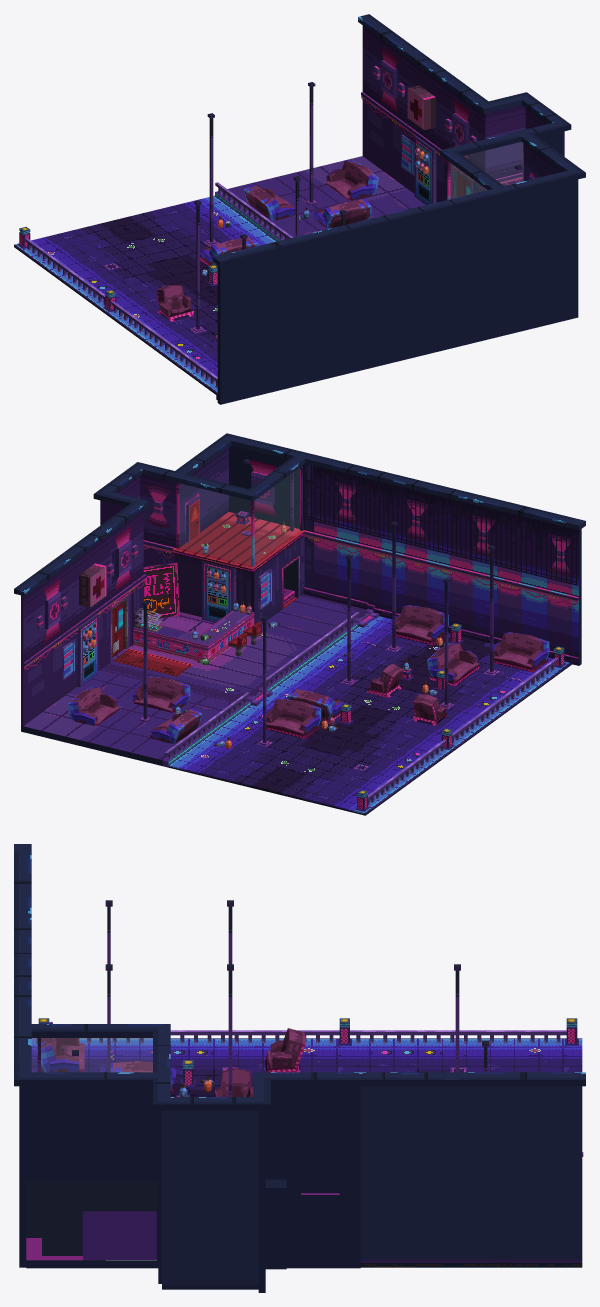
Rendered from minecraft-hospital.glb.
3 views of the same model, one above another, from view 1: azimuth 30°, elevation 25°; view 2: azimuth 150°, elevation 25°; view 3: azimuth 270°, elevation 25° (orthographic). The views are drawn at different scales.
Parts seen in each view (by area): view 1: Object_6, Object_1007, Object_599; view 2: Object_6, Object_1007, Object_599, Object_993; view 3: Object_6, Object_1007.
Boxes of the visible parts, left/top/right/bottom form: Object_6: left=14, top=14, right=585, bottom=404; Object_1007: left=451, top=142, right=522, bottom=198; Object_599: left=201, top=145, right=428, bottom=276; Object_6: left=14, top=433, right=585, bottom=815; Object_1007: left=180, top=468, right=299, bottom=564; Object_599: left=83, top=522, right=449, bottom=748; Object_993: left=228, top=621, right=261, bottom=655; Object_6: left=14, top=844, right=585, bottom=1292; Object_1007: left=32, top=1038, right=152, bottom=1071.
Bounding box in the file's own units: 21.88 × 7.5 × 20.31.
4 materials, 3 textured.
